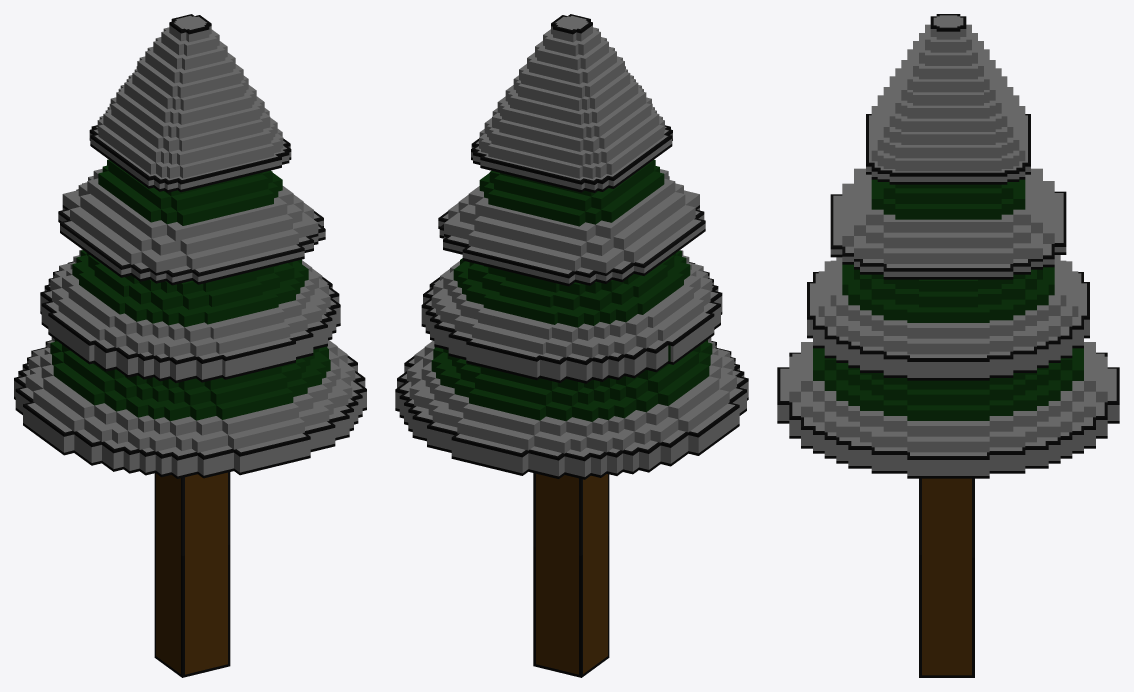
File: WinterGame-5.obj
3 views of the same model, side by side, from view 1: azimuth 30°, elevation 25°; view 2: azimuth 150°, elevation 25°; view 3: azimuth 270°, elevation 25° (orthographic).
Size of the model in its own units: 11.6 by 24.1 by 11.6.
Materials: 1 (1 with a texture image).
